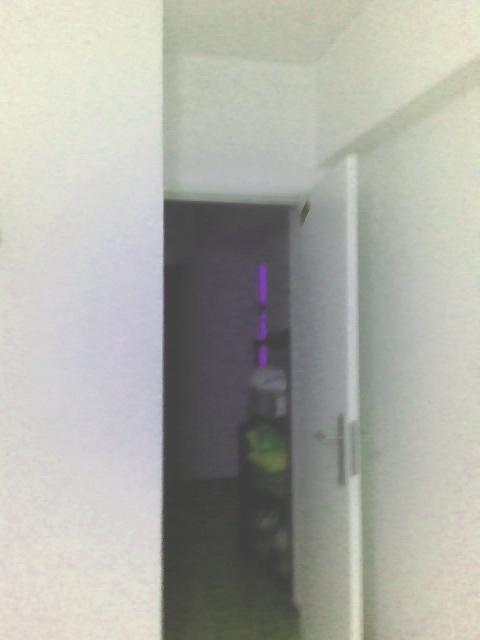open_door: (164, 188, 353, 639)
